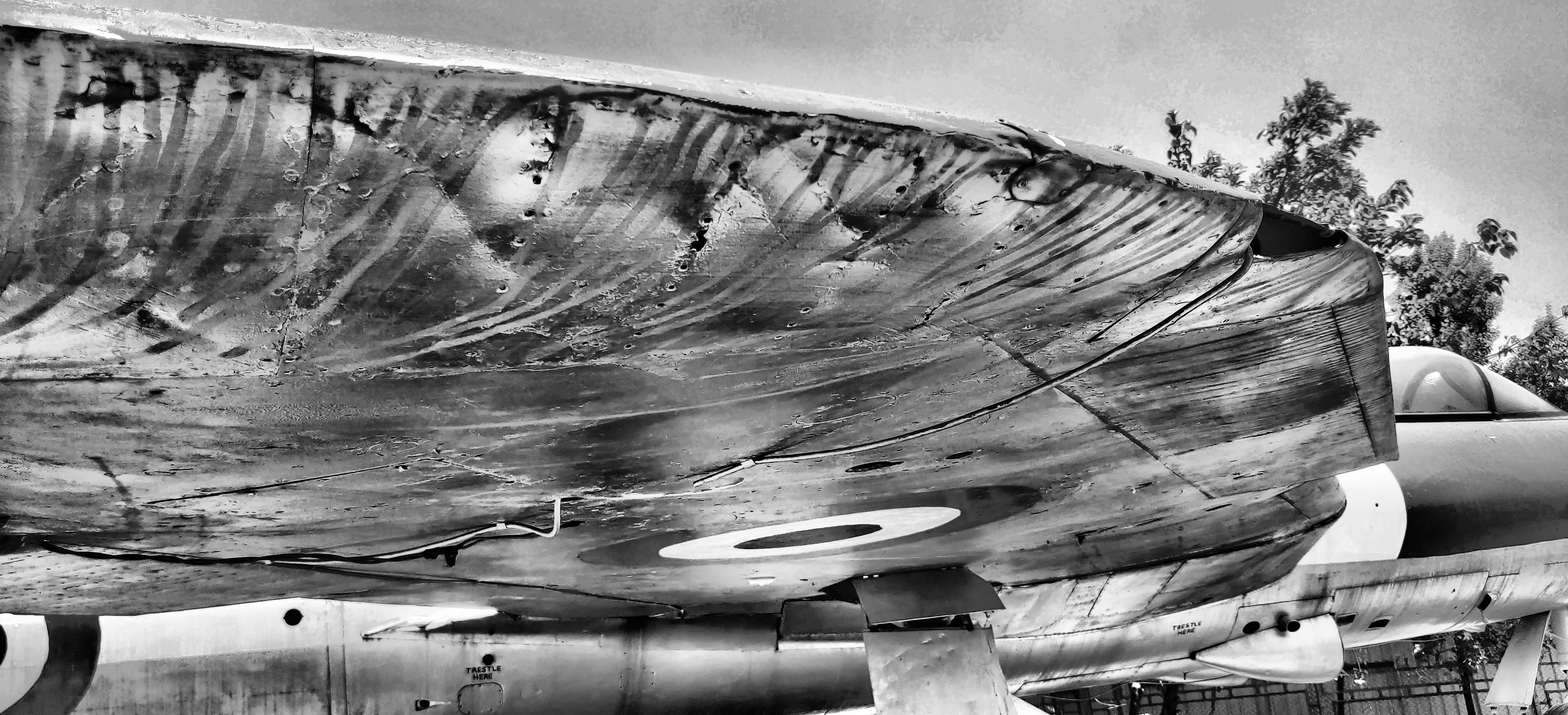crack: (80, 77, 136, 98), (911, 298, 948, 329), (689, 227, 710, 252)
dent: (431, 175, 512, 270), (520, 85, 566, 187), (137, 306, 214, 349), (994, 127, 1071, 167), (740, 110, 809, 153), (817, 250, 883, 268), (831, 214, 873, 242), (1166, 178, 1188, 191), (1142, 169, 1158, 183)
missing-head: (895, 183, 908, 195), (532, 175, 543, 188), (239, 489, 259, 496), (728, 161, 741, 171), (913, 154, 922, 168), (1013, 222, 1024, 233), (515, 236, 527, 246), (994, 243, 1006, 253), (1158, 197, 1168, 209), (394, 463, 409, 471), (1228, 229, 1238, 240), (498, 284, 509, 293), (524, 210, 534, 219), (677, 263, 687, 272), (667, 282, 677, 291), (800, 306, 810, 315), (1035, 304, 1045, 313), (786, 321, 797, 329), (1188, 265, 1200, 272), (976, 262, 986, 270), (656, 301, 665, 309), (879, 209, 888, 217), (958, 279, 966, 288), (1073, 276, 1083, 283), (703, 216, 711, 224), (505, 479, 515, 485), (774, 334, 782, 341), (635, 330, 642, 337), (624, 344, 632, 350)
paint-peel-off: (346, 99, 374, 133), (747, 576, 775, 586), (1076, 532, 1085, 544)
scratch: (882, 642, 923, 667)
